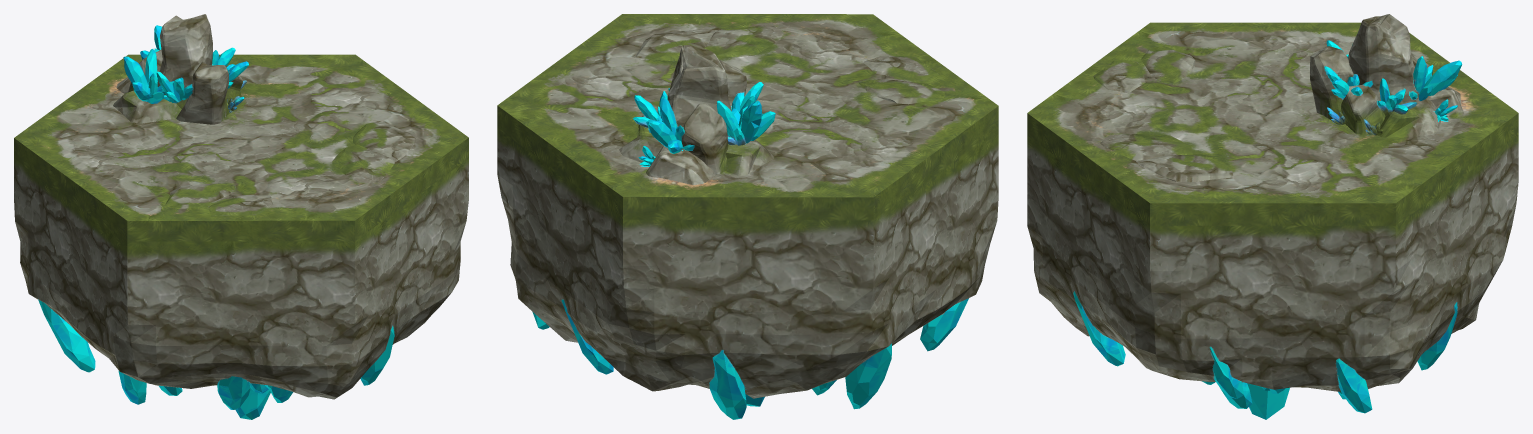
The model's file is crystalChunk.glb.
The picture shows the model from 3 angles, left to right: view 1: azimuth 30°, elevation 25°; view 2: azimuth 150°, elevation 25°; view 3: azimuth 270°, elevation 25°; orthographic projection. The views are drawn at different scales.
Parts seen in each view (by area): view 1: Crystal; view 2: Crystal; view 3: Crystal.
Boxes of the visible parts, bbox=[...] form: Crystal: bbox=[14, 14, 468, 419]; Crystal: bbox=[497, 14, 998, 419]; Crystal: bbox=[1027, 14, 1518, 419].
Bounding box in the file's own units: 1 × 1.02 × 1.15.
Materials: 1 (1 with a texture image).
